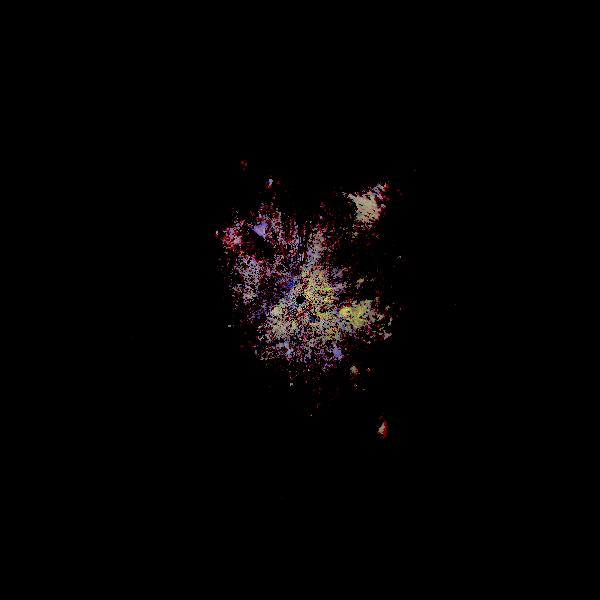roost: (358, 360, 508, 510)
